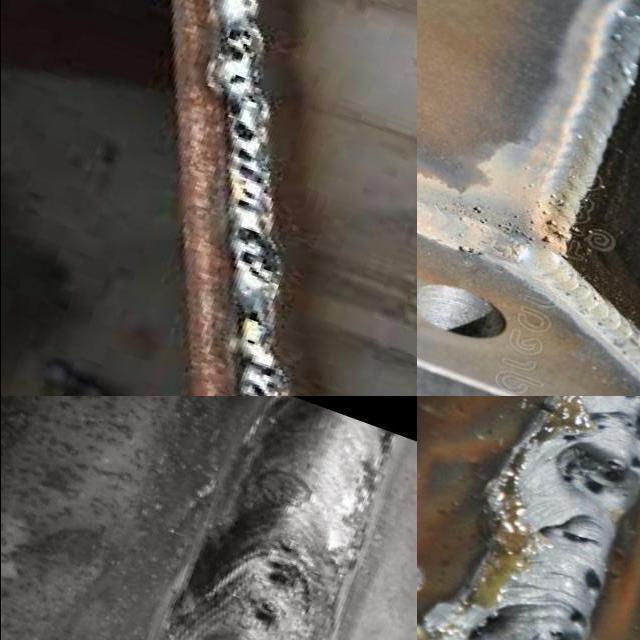defect: (551, 427, 640, 498), (495, 178, 569, 247), (253, 533, 317, 597), (229, 223, 283, 283), (235, 591, 291, 634), (226, 145, 260, 213), (217, 22, 263, 68), (533, 523, 600, 554), (224, 96, 255, 147), (464, 609, 510, 640), (242, 361, 281, 396), (577, 563, 609, 594), (448, 240, 490, 258), (560, 605, 588, 628), (242, 307, 267, 332), (470, 203, 489, 227), (224, 71, 249, 89), (545, 625, 568, 640), (243, 336, 257, 346)
